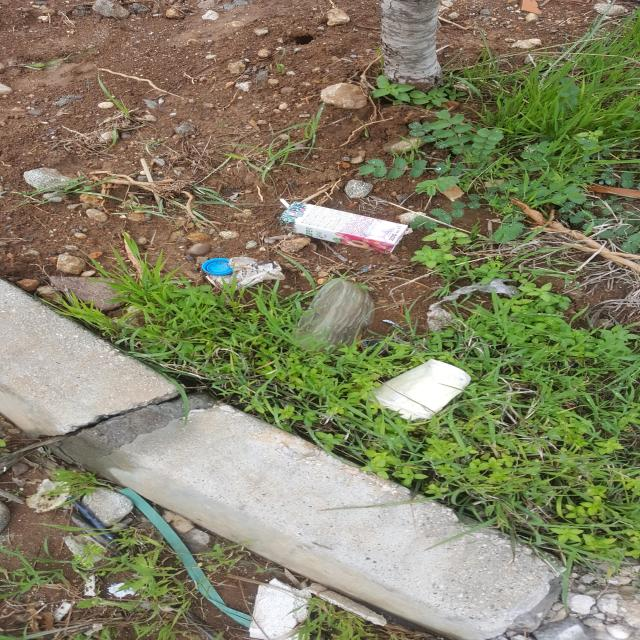litter: (352, 132, 453, 205)
